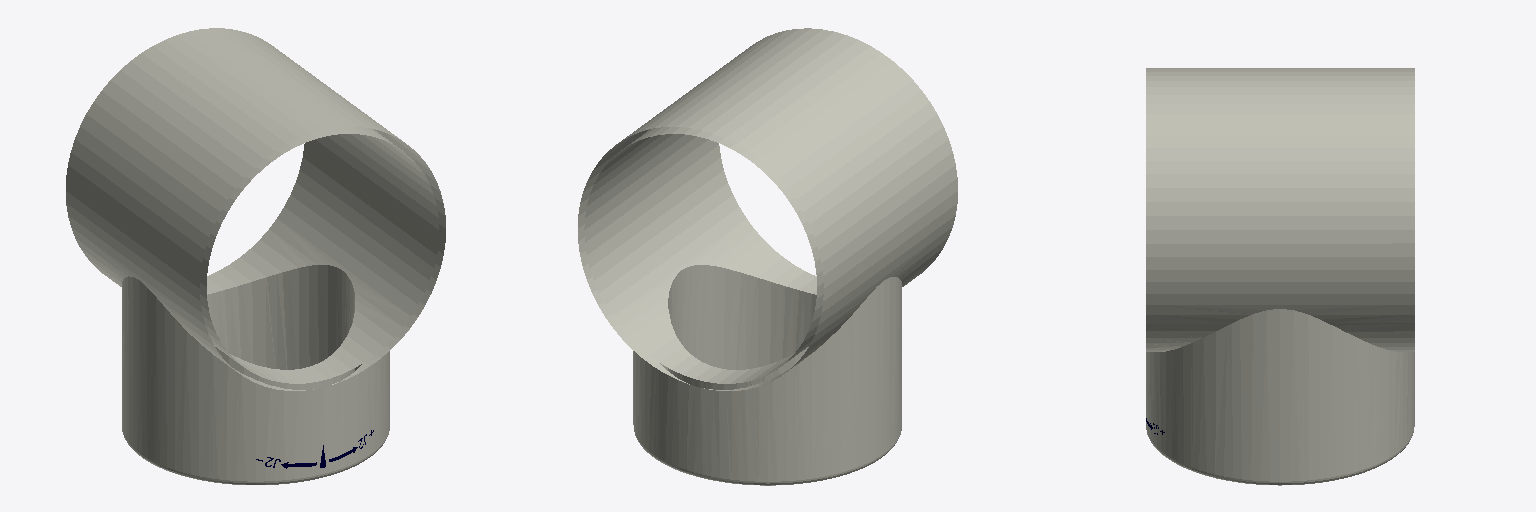
3 renders of one model, left to right at view 1: azimuth 30°, elevation 25°; view 2: azimuth 150°, elevation 25°; view 3: azimuth 270°, elevation 25°, orthographic.
Visible parts, largest first — view 1: link2_mesh_1_B2124-1.005; view 2: link2_mesh_1_B2124-1.005; view 3: link2_mesh_1_B2124-1.005.
Part boxes in pixels (x1,y1,x2,y2): link2_mesh_1_B2124-1.005: (66, 28, 445, 484); link2_mesh_1_B2124-1.005: (578, 28, 957, 485); link2_mesh_1_B2124-1.005: (1146, 68, 1414, 485).
Size of the model in its own units: 0.127 by 0.1726 by 0.1202.